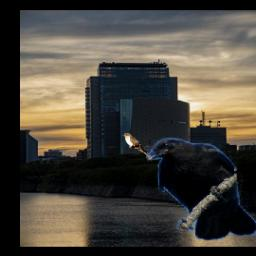Crow: (146, 139, 256, 241)
Cuckoo: (122, 133, 149, 156)
